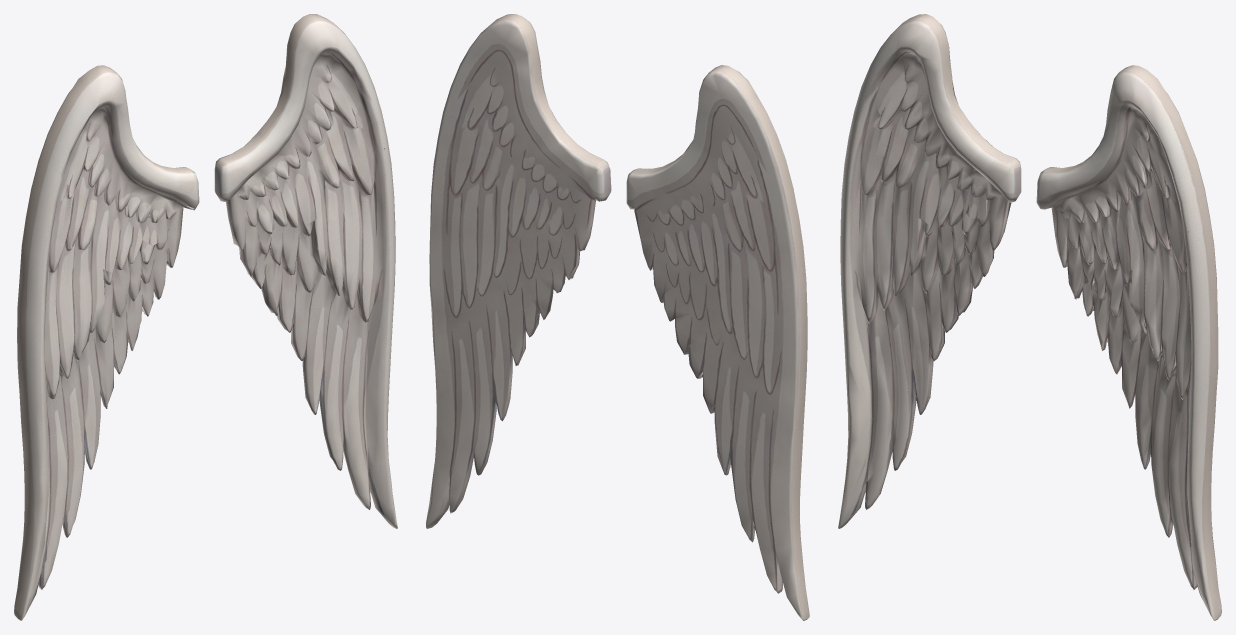
The model's file is wings.glb.
3 renders of one model, left to right at view 1: azimuth 30°, elevation 25°; view 2: azimuth 150°, elevation 25°; view 3: azimuth 330°, elevation 25°, orthographic.
Visible parts, largest first — view 1: geometry_0; view 2: geometry_0; view 3: geometry_0.
Part boxes in pixels (<box>): geometry_0: <box>14,14,397,620</box>; geometry_0: <box>426,14,809,620</box>; geometry_0: <box>838,14,1221,620</box>.
Size of the model in its own units: 0.7085 by 0.9526 by 0.0542.
Materials: 1 (1 with a texture image).
